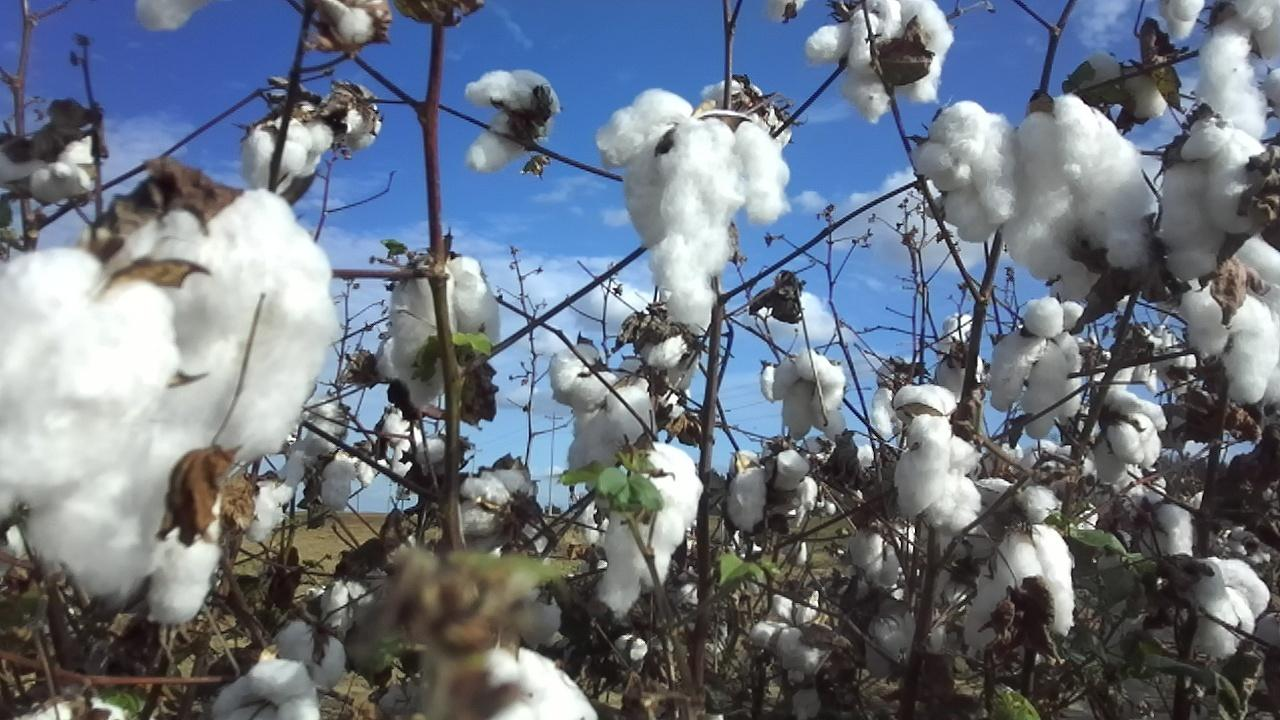cotton_ready: (83, 190, 339, 451), (0, 249, 180, 597), (595, 89, 789, 329), (1002, 95, 1152, 297), (964, 484, 1077, 652), (601, 442, 705, 615), (388, 252, 502, 409), (1156, 120, 1267, 279), (914, 97, 1017, 239), (986, 299, 1090, 437), (139, 458, 222, 624), (1180, 277, 1280, 406), (807, 0, 900, 127), (1200, 0, 1280, 134), (465, 70, 561, 174), (1181, 557, 1272, 663), (281, 398, 355, 515), (483, 647, 600, 720), (568, 382, 659, 473), (276, 582, 352, 687), (726, 450, 820, 534), (895, 384, 954, 513), (1093, 389, 1169, 485), (215, 657, 325, 720), (1069, 50, 1169, 118), (247, 117, 337, 191), (750, 589, 826, 674), (704, 79, 794, 150), (1125, 482, 1196, 569), (461, 470, 537, 551), (777, 350, 849, 435), (0, 134, 99, 195), (898, 0, 952, 104), (928, 439, 985, 535), (845, 609, 917, 682), (917, 581, 984, 659), (549, 339, 614, 411), (852, 517, 912, 594), (636, 319, 695, 392), (618, 357, 689, 417), (233, 480, 292, 546), (1229, 237, 1280, 313), (324, 84, 382, 150), (504, 582, 565, 644), (869, 355, 914, 439), (936, 317, 980, 399), (381, 405, 427, 481), (329, 0, 383, 49), (15, 697, 130, 720), (412, 437, 460, 485), (135, 0, 204, 32), (1159, 0, 1206, 44)
